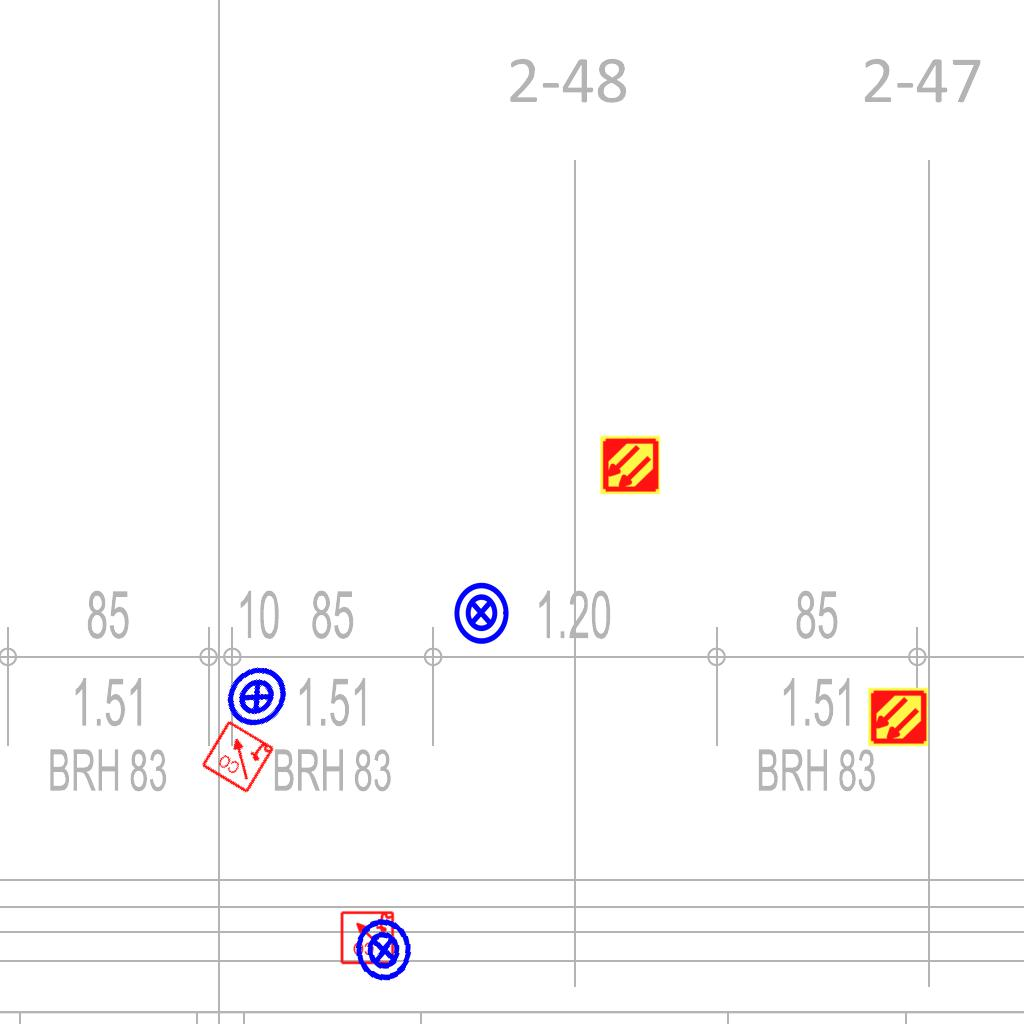ASR_Ansaugrauchmelder: (599, 434, 661, 496), (867, 686, 929, 748)
ROA_Rauchmelder_optisch_mit_Signalgeber_(Sockelsirene): (199, 717, 277, 795), (339, 909, 395, 965)
Taster_beleuchtet: (210, 650, 304, 744), (347, 913, 421, 987), (448, 580, 514, 646)
